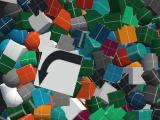Left: (34, 45, 84, 96)
